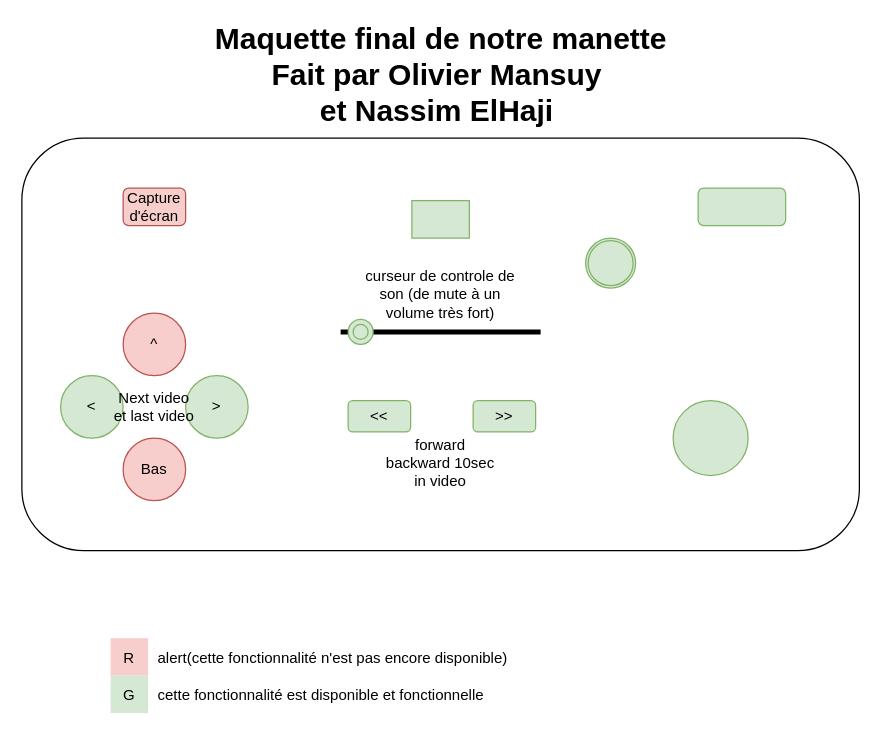
Some shapes in this 881 by 735 pixel diagram are drawn without their labels. The shapes that lost their labels are listed below. From the top down, each one's centre as x and y in pixels, then its label:
pixel 440 218: pause et play
pixel 741 206: +(ajout de video)
pixel 610 262: Mute
pixel 710 437: Connexion
